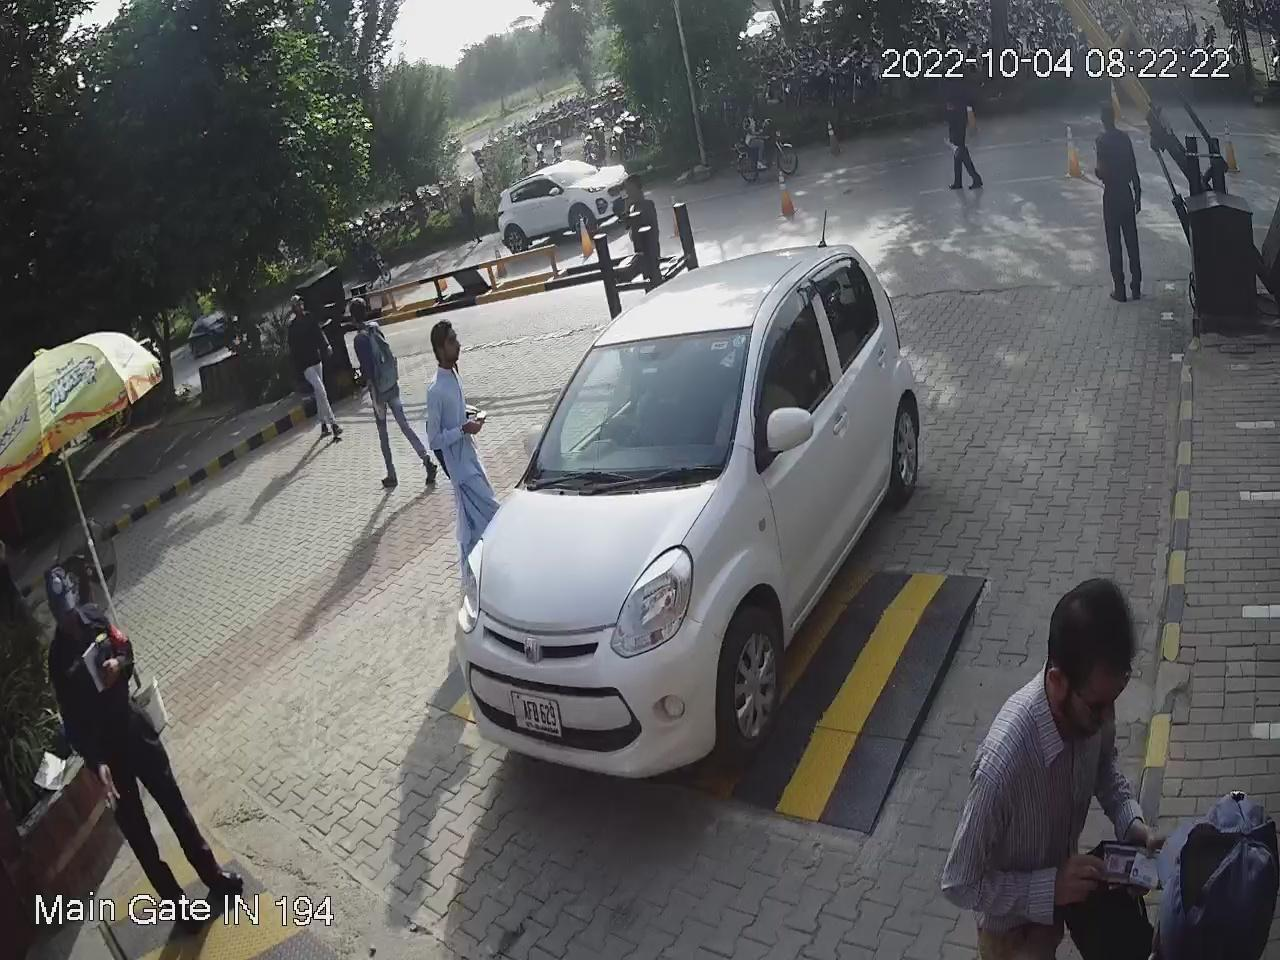windshield: (513, 315, 770, 487)
